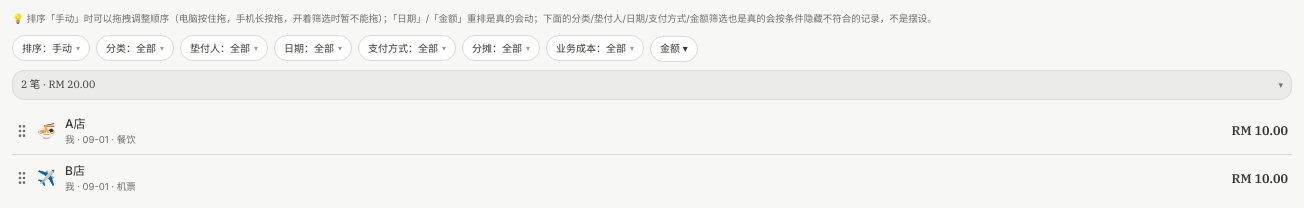
Scenario: ExpenseList — 任务⑤：拖拽手柄只在「手动排序 + 无筛选」时出现 › 开着筛选时，拖拽手柄消失 + 显示提示文案
Click the button with aria-label "按分类筛选".
click(135, 48)  # box [96,35,174,61]
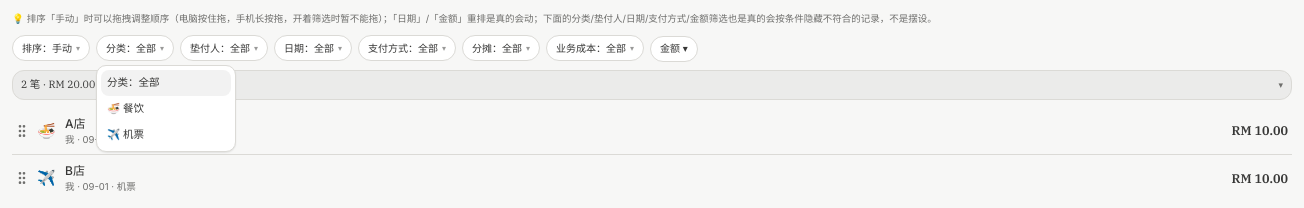
Press the mouse on the option "🍜 餐饮" at (126, 108), box [107,102,144,115]
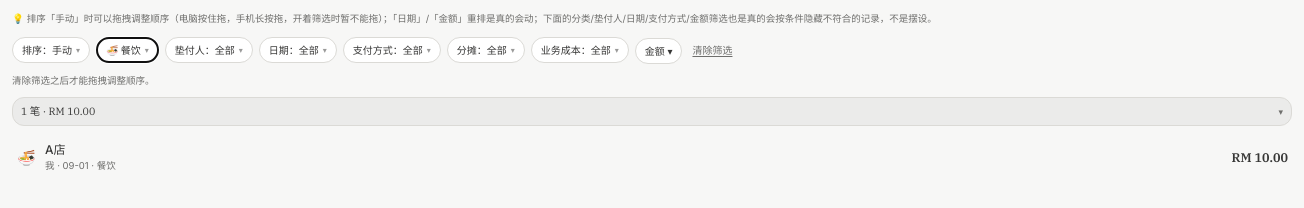
Expected: the text "清除筛选之后才能拖拽调整顺序。" is shown, [12,75,154,86]
